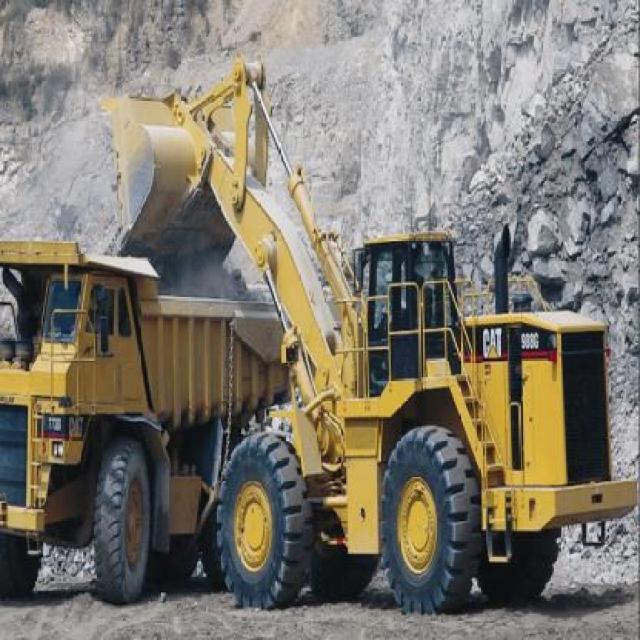buldozerpayloadergrader: (89, 36, 630, 626)
